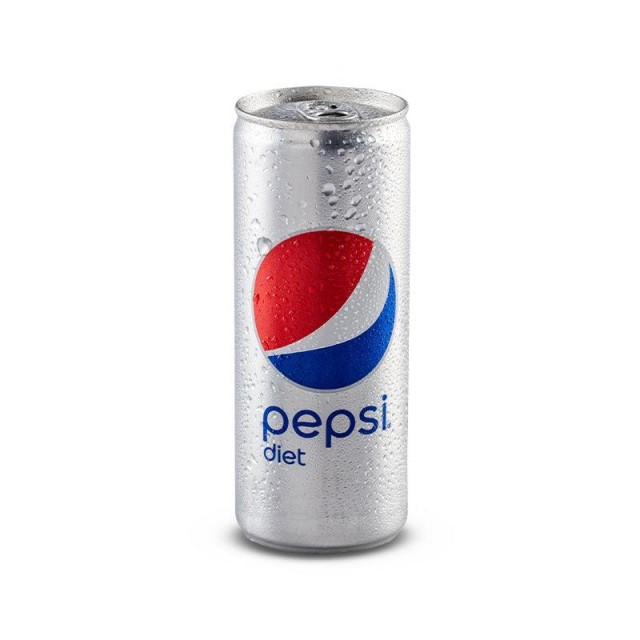pepsi: (251, 228, 398, 401)
